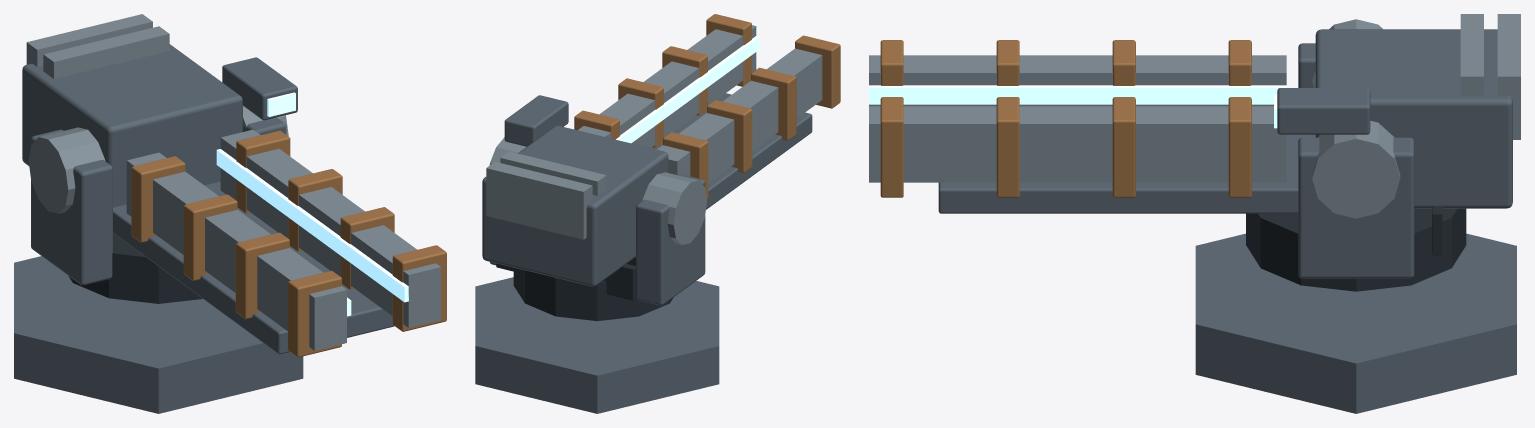
The model's file is railgun_t1_d0.meshopt.glb.
The picture shows the model from 3 angles, left to right: view 1: azimuth 30°, elevation 25°; view 2: azimuth 150°, elevation 25°; view 3: azimuth 270°, elevation 25°; orthographic projection. The views are drawn at different scales.
Visible parts, largest first — view 1: RECOIL_ARMOR_GEOMETRY, BASE_ARMOR_GEOMETRY, YAW_ARMOR_GEOMETRY, RECOIL_SIGNAL_GEOMETRY; view 2: RECOIL_ARMOR_GEOMETRY, BASE_ARMOR_GEOMETRY, YAW_ARMOR_GEOMETRY, RECOIL_SIGNAL_GEOMETRY; view 3: RECOIL_ARMOR_GEOMETRY, BASE_ARMOR_GEOMETRY, YAW_ARMOR_GEOMETRY, RECOIL_SIGNAL_GEOMETRY.
Part boxes in pixels (<box>): RECOIL_ARMOR_GEOMETRY: <box>22,14,446,357</box>; BASE_ARMOR_GEOMETRY: <box>14,256,303,413</box>; YAW_ARMOR_GEOMETRY: <box>31,117,286,303</box>; RECOIL_SIGNAL_GEOMETRY: <box>216,92,408,316</box>; RECOIL_ARMOR_GEOMETRY: <box>482,14,840,300</box>; BASE_ARMOR_GEOMETRY: <box>475,277,719,413</box>; YAW_ARMOR_GEOMETRY: <box>490,174,705,321</box>; RECOIL_SIGNAL_GEOMETRY: <box>616,36,759,143</box>; RECOIL_ARMOR_GEOMETRY: <box>869,14,1520,255</box>; BASE_ARMOR_GEOMETRY: <box>1195,233,1516,413</box>; YAW_ARMOR_GEOMETRY: <box>1246,43,1466,291</box>; RECOIL_SIGNAL_GEOMETRY: <box>869,85,1286,128</box>.
Bounding box in the file's own units: 1.6 × 1.38 × 2.81.
